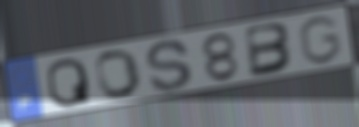8: (199, 32, 240, 82)
B: (244, 21, 297, 80)
G: (296, 14, 344, 66)
O: (93, 47, 144, 101)
Q: (46, 56, 94, 109)
S: (143, 38, 195, 95)
